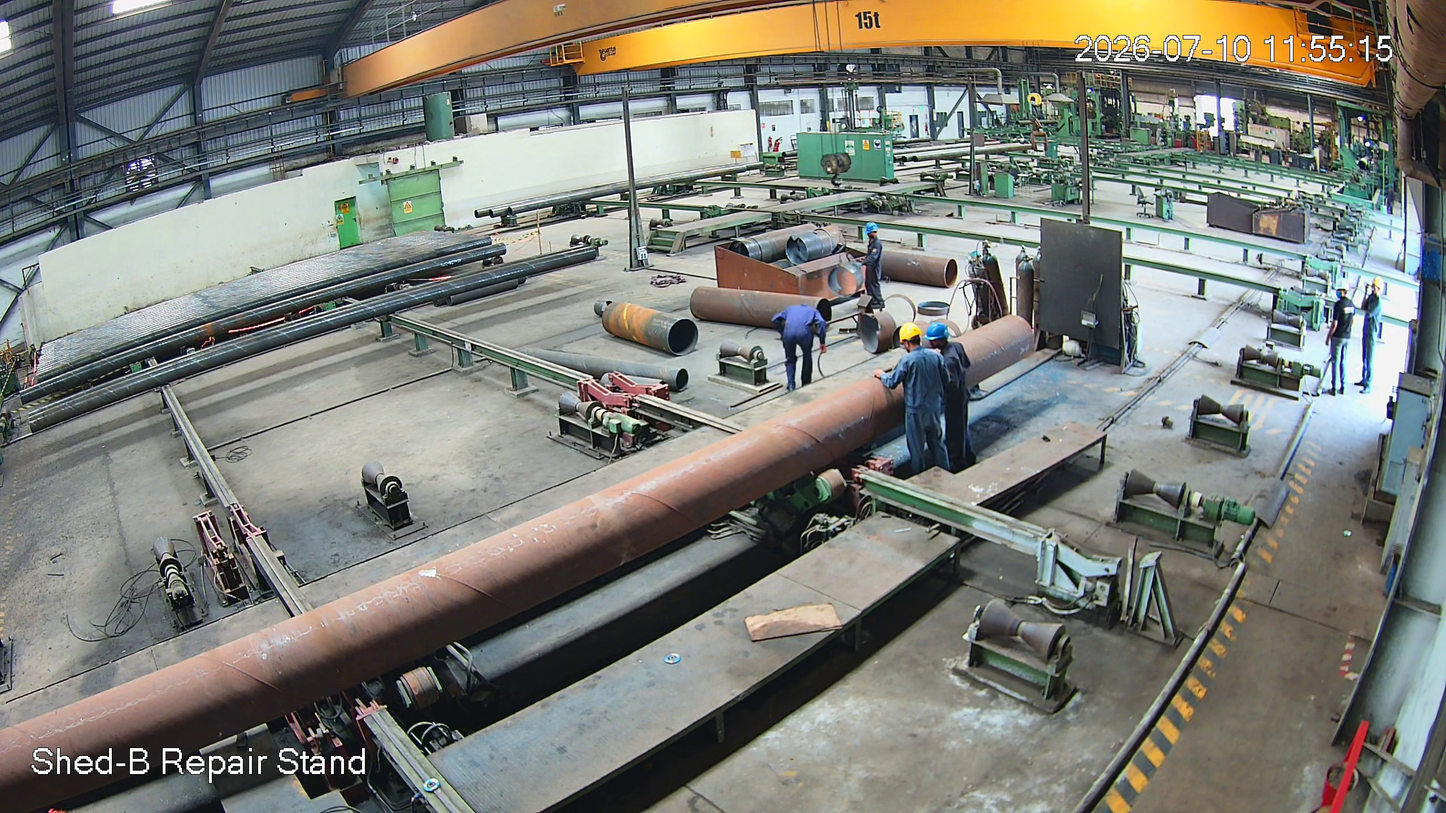Helmet: (923, 312, 955, 369), (1362, 273, 1391, 310), (899, 313, 920, 357), (858, 212, 882, 245)
Person: (889, 318, 928, 480), (772, 302, 833, 395), (927, 311, 963, 462), (1356, 275, 1394, 405), (854, 216, 896, 324), (1334, 279, 1355, 407)
